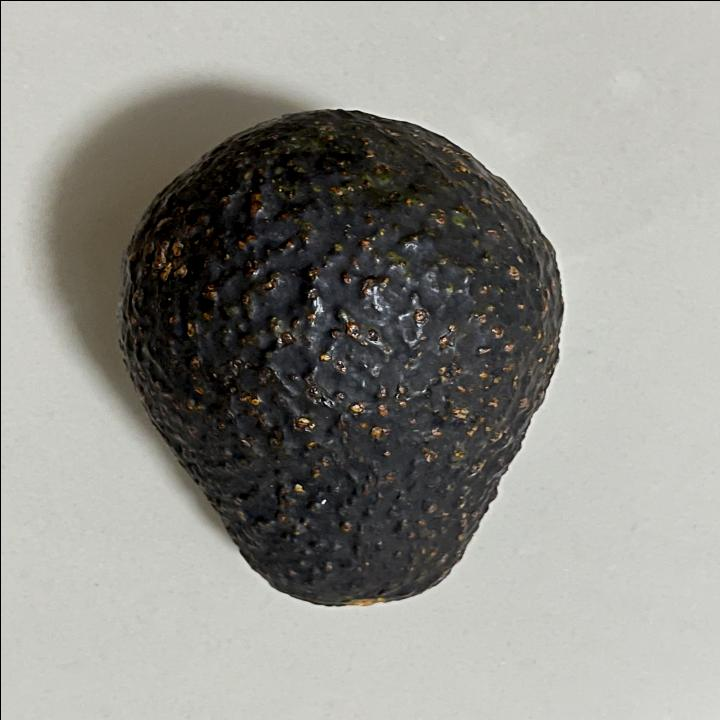Level2: (110, 101, 568, 611)
